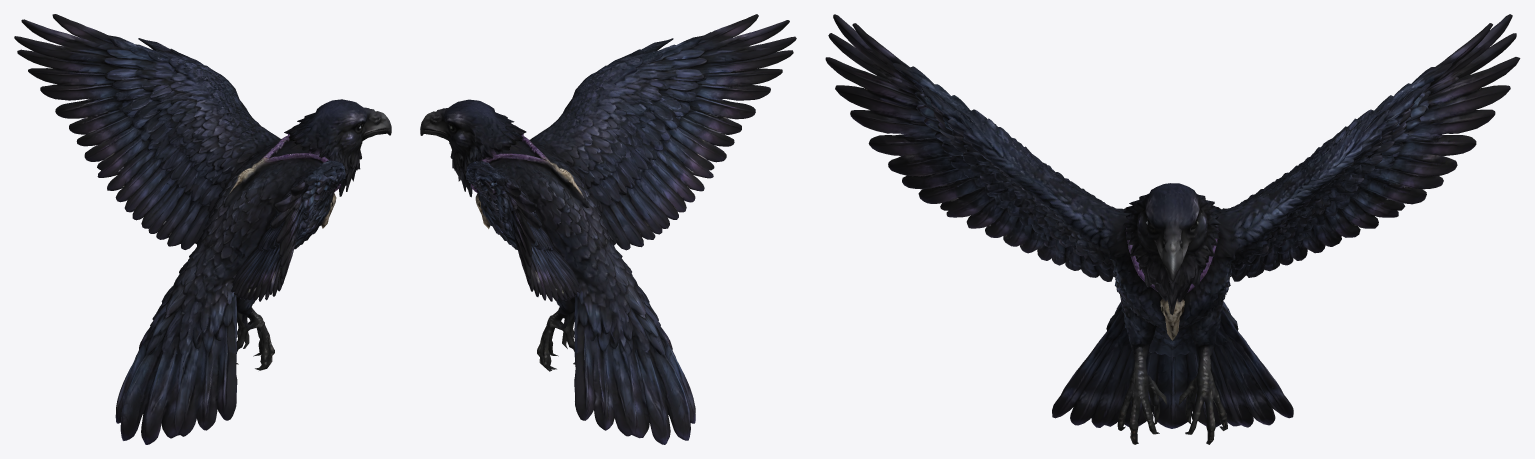
File: raven-tripo.glb
3 views of the same model, side by side, from view 1: azimuth 30°, elevation 25°; view 2: azimuth 150°, elevation 25°; view 3: azimuth 270°, elevation 25° (orthographic). The views are drawn at different scales.
Parts seen in each view (by area): view 1: tripo_node_3ba592ad-e5c3-4864-a4f1-e44faa09c500; view 2: tripo_node_3ba592ad-e5c3-4864-a4f1-e44faa09c500; view 3: tripo_node_3ba592ad-e5c3-4864-a4f1-e44faa09c500.
Part boxes in pixels (box(x1,y1,x2,y2)): tripo_node_3ba592ad-e5c3-4864-a4f1-e44faa09c500: box(14, 14, 391, 444); tripo_node_3ba592ad-e5c3-4864-a4f1-e44faa09c500: box(420, 14, 796, 444); tripo_node_3ba592ad-e5c3-4864-a4f1-e44faa09c500: box(825, 14, 1520, 444).
Size of the model in its own units: 0.5993 by 0.6962 by 1.
Materials: 1 (1 with a texture image).
